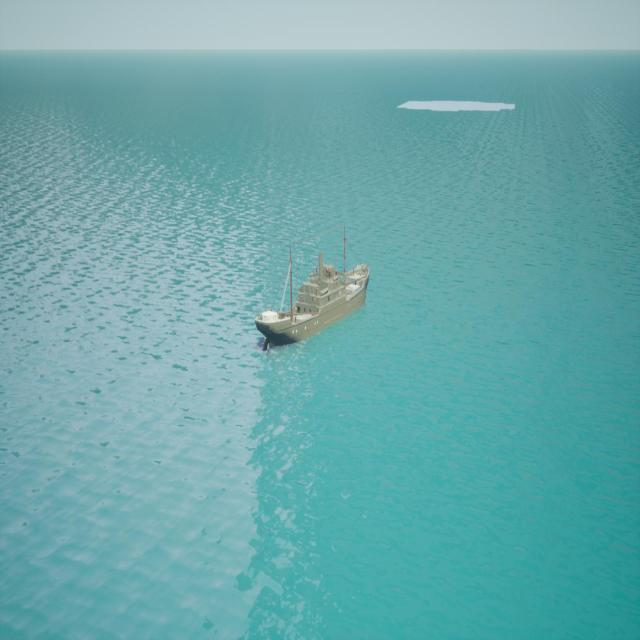fishing ship: (257, 230, 370, 351)
